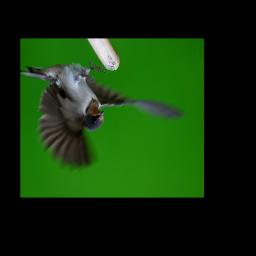Swallow: (23, 61, 184, 171)
